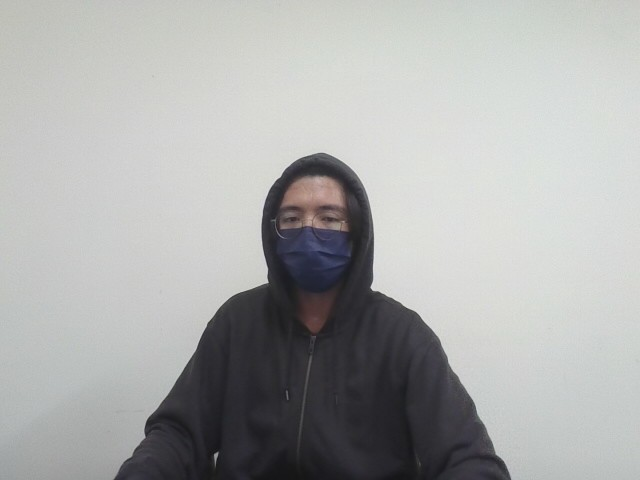No_Helmet: (256, 147, 375, 297)
person: (70, 130, 552, 480)
